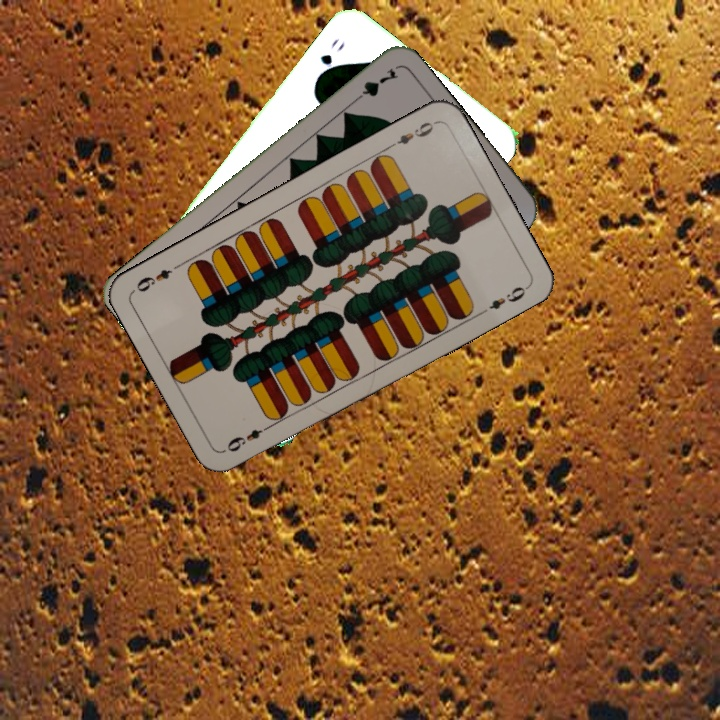E9: (384, 117, 439, 151), (222, 420, 275, 455)
G7: (347, 63, 400, 107)
GO: (313, 34, 348, 82)
